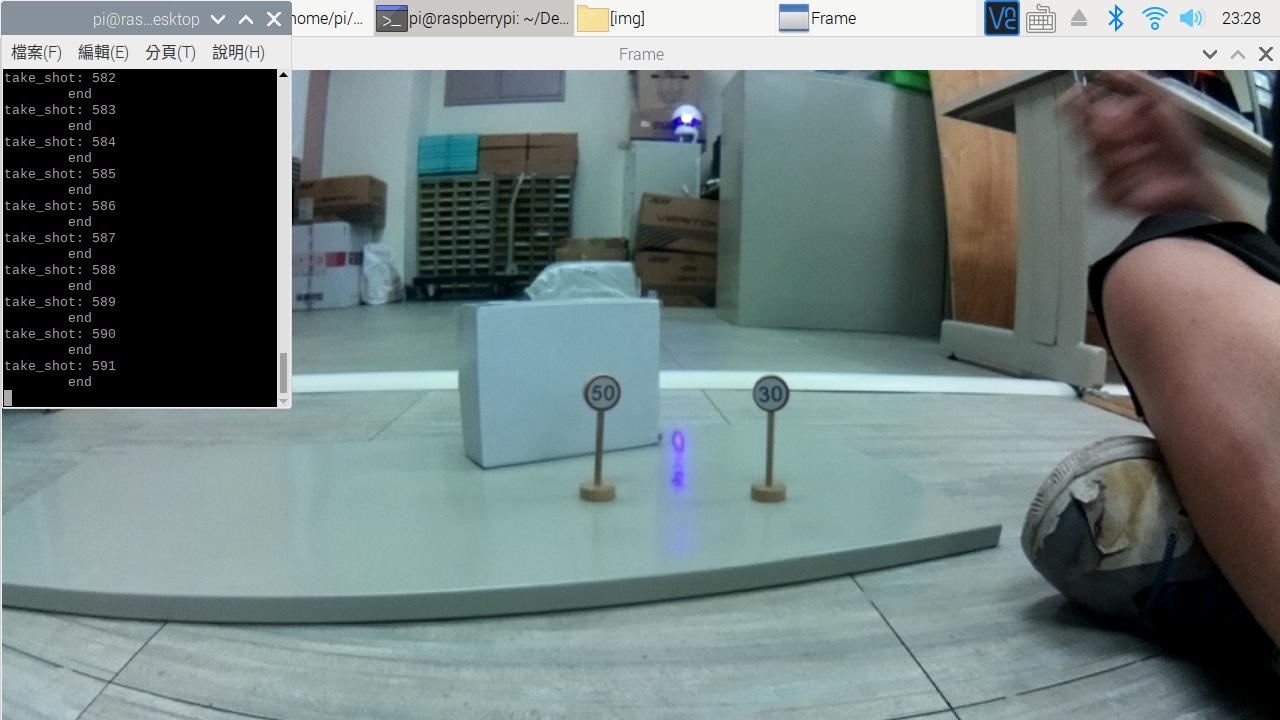Speed30: (740, 372, 799, 416)
Speed50: (578, 364, 626, 417)
